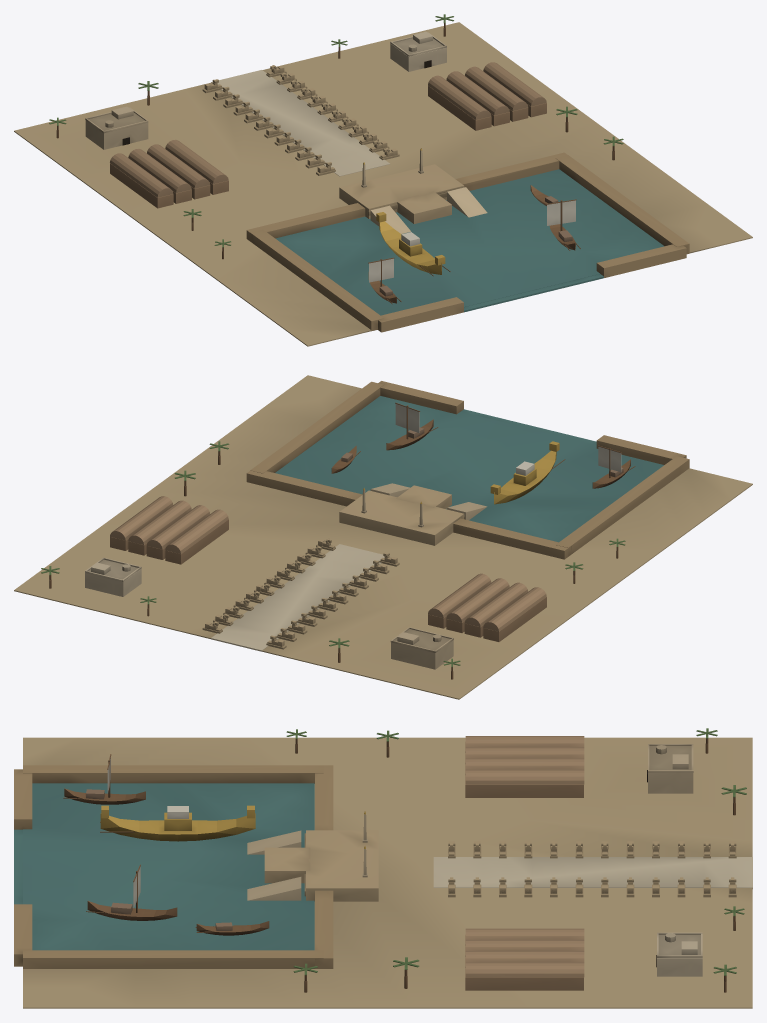
File: karnak-quay.glb
3 views of the same model, one above another, from view 1: azimuth 30°, elevation 25°; view 2: azimuth 150°, elevation 25°; view 3: azimuth 270°, elevation 25° (orthographic). The views are drawn at different scales.
Visible parts, largest first — view 1: p0_ground, p2_stores, p1_quay, p3_boats; view 2: p0_ground, p2_stores, p1_quay, p3_boats; view 3: p0_ground, p1_quay, p2_stores, p3_boats.
Boxes of the visible parts, x1=… form: p0_ground: x1=14, y1=22, x2=752, y2=346; p2_stores: x1=85, y1=31, x2=546, y2=208; p1_quay: x1=246, y1=152, x2=689, y2=332; p3_boats: x1=49, y1=14, x2=623, y2=304; p0_ground: x1=14, y1=375, x2=752, y2=699; p2_stores: x1=85, y1=488, x2=546, y2=669; p1_quay: x1=246, y1=381, x2=689, y2=559; p3_boats: x1=41, y1=402, x2=635, y2=671; p0_ground: x1=14, y1=737, x2=752, y2=1008; p1_quay: x1=14, y1=765, x2=378, y2=968; p2_stores: x1=362, y1=736, x2=736, y2=990; p3_boats: x1=63, y1=728, x2=746, y2=981.
Size of the model in its own units: 140 by 11.96 by 162.
